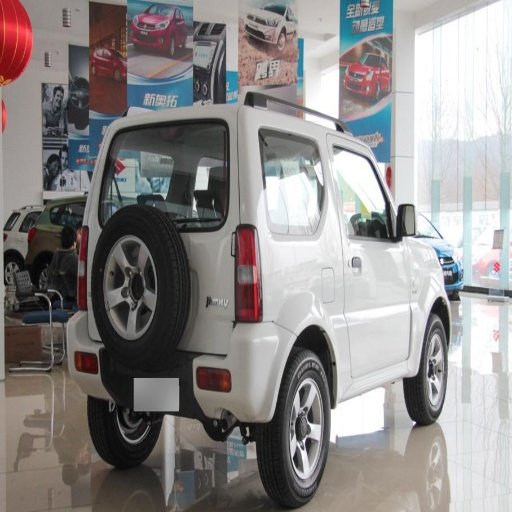back_bumper: (222, 323, 286, 380), (187, 234, 230, 301)
back_right_door: (282, 131, 366, 312)
trunk: (230, 330, 292, 419)
